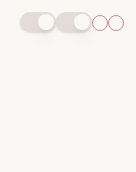
Test: checkbox and switch › toggles both controls
The width and height of the screenshot is (136, 172).
Click the checkbox named "tos" at coordinates (116, 23), box [108,15,124,31]
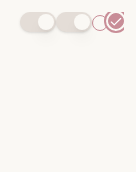
Click the checkbox named "admin tos" at coordinates (100, 23), box [92,15,108,31]
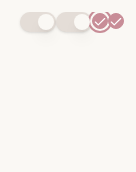
Click the switch named "live" at coordinates (74, 22), box [56,12,92,32]
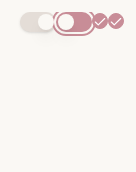
Click the switch named "admin live" at coordinates (38, 22), box [20,12,56,32]
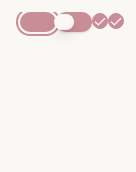
Expected: the checkbox named "tos" has attribute data-state="checked", [108,13,124,29]
Expected: the checkbox named "admin tos" has attribute data-state="checked", [92,13,108,29]
Expected: the switch named "live" has attribute data-state="checked", [56,12,92,32]
